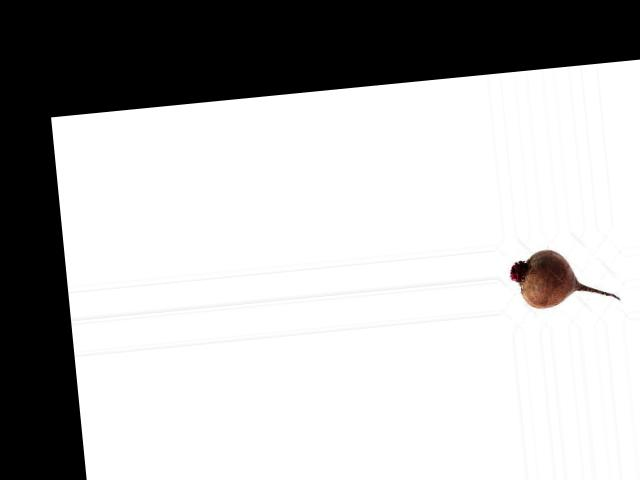beet: (508, 241, 619, 311)
